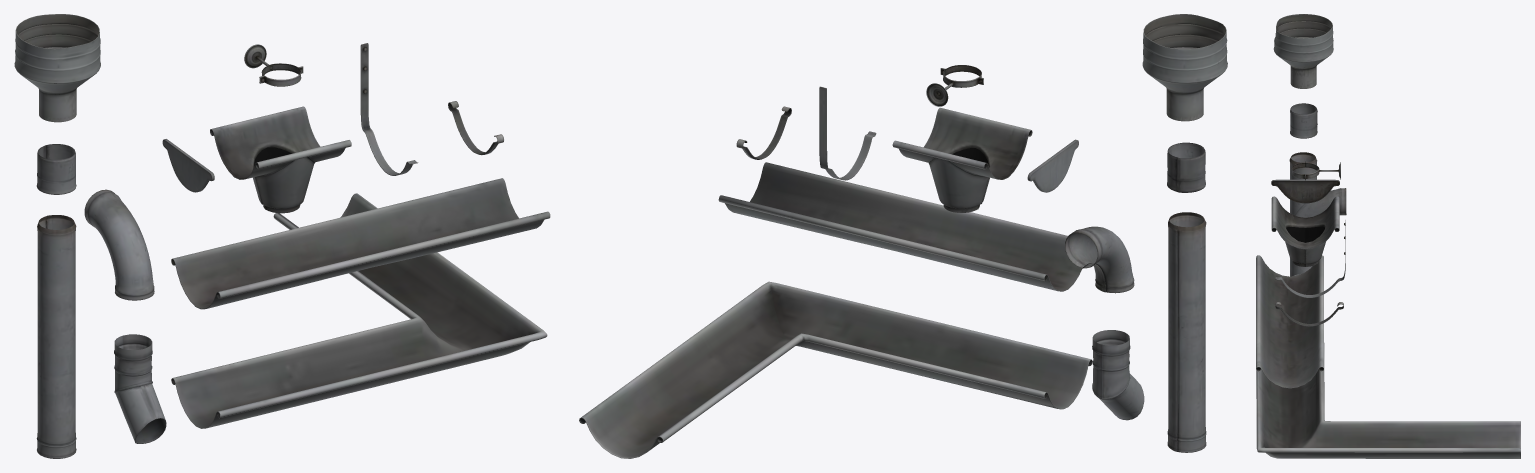
File: gutter_kit.glb
3 renders of one model, left to right at view 1: azimuth 30°, elevation 25°; view 2: azimuth 150°, elevation 25°; view 3: azimuth 270°, elevation 25°, orthographic. The views are drawn at different scales.
Parts seen in each view (by area): view 1: modular_metal_gutter_corner, modular_metal_gutter, modular_metal_gutter_section, modular_metal_gutter_shower_receiver, modular_metal_gutter_funnel, modular_metal_gutter_bend, modular_metal_gutter_outlet, modular_metal_gutter_coupler, modular_metal_gutter_gutter_bracing, modular_metal_gutter_gutter_plug, modular_metal_gutter_bracing, modular_metal_gutter_gutter_coupler; view 2: modular_metal_gutter_corner, modular_metal_gutter, modular_metal_gutter_section, modular_metal_gutter_shower_receiver, modular_metal_gutter_funnel, modular_metal_gutter_outlet, modular_metal_gutter_bend, modular_metal_gutter_coupler, modular_metal_gutter_gutter_plug, modular_metal_gutter_gutter_bracing, modular_metal_gutter_bracing; view 3: modular_metal_gutter_corner, modular_metal_gutter, modular_metal_gutter_funnel, modular_metal_gutter_shower_receiver, modular_metal_gutter_gutter_plug, modular_metal_gutter_coupler, modular_metal_gutter_section, modular_metal_gutter_bend, modular_metal_gutter_bracing, modular_metal_gutter_gutter_bracing, modular_metal_gutter_gutter_coupler.
Boxes of the visible parts, left/top/right/bottom form: modular_metal_gutter_corner: left=171, top=193, right=547, bottom=428; modular_metal_gutter: left=171, top=178, right=550, bottom=309; modular_metal_gutter_section: left=36, top=215, right=76, bottom=458; modular_metal_gutter_shower_receiver: left=210, top=106, right=351, bottom=213; modular_metal_gutter_funnel: left=14, top=14, right=100, bottom=122; modular_metal_gutter_bend: left=84, top=189, right=154, bottom=300; modular_metal_gutter_outlet: left=114, top=334, right=166, bottom=443; modular_metal_gutter_coupler: left=36, top=144, right=76, bottom=194; modular_metal_gutter_gutter_bracing: left=360, top=43, right=418, bottom=175; modular_metal_gutter_gutter_plug: left=162, top=139, right=214, bottom=192; modular_metal_gutter_bracing: left=244, top=44, right=303, bottom=86; modular_metal_gutter_gutter_coupler: left=448, top=101, right=503, bottom=155; modular_metal_gutter_corner: left=579, top=281, right=1092, bottom=458; modular_metal_gutter: left=718, top=162, right=1081, bottom=291; modular_metal_gutter_section: left=1167, top=212, right=1206, bottom=452; modular_metal_gutter_shower_receiver: left=892, top=107, right=1032, bottom=212; modular_metal_gutter_funnel: left=1142, top=14, right=1227, bottom=121; modular_metal_gutter_outlet: left=1092, top=330, right=1144, bottom=420; modular_metal_gutter_bend: left=1065, top=226, right=1134, bottom=293; modular_metal_gutter_coupler: left=1167, top=142, right=1205, bottom=192; modular_metal_gutter_gutter_plug: left=1027, top=139, right=1078, bottom=192; modular_metal_gutter_gutter_bracing: left=819, top=86, right=876, bottom=180; modular_metal_gutter_bracing: left=926, top=65, right=983, bottom=106; modular_metal_gutter_corner: left=1256, top=343, right=1520, bottom=458; modular_metal_gutter: left=1256, top=255, right=1323, bottom=388; modular_metal_gutter_funnel: left=1273, top=14, right=1333, bottom=88; modular_metal_gutter_shower_receiver: left=1271, top=196, right=1339, bottom=266; modular_metal_gutter_gutter_plug: left=1271, top=179, right=1339, bottom=203; modular_metal_gutter_coupler: left=1290, top=103, right=1317, bottom=138; modular_metal_gutter_section: left=1289, top=152, right=1317, bottom=276; modular_metal_gutter_bend: left=1295, top=188, right=1346, bottom=217; modular_metal_gutter_bracing: left=1291, top=161, right=1340, bottom=180; modular_metal_gutter_gutter_bracing: left=1275, top=220, right=1345, bottom=297; modular_metal_gutter_gutter_coupler: left=1275, top=302, right=1343, bottom=326.
Bounding box in the file's own units: 2.27 × 1.84 × 1.51.
Materials: 1 (1 with a texture image).
